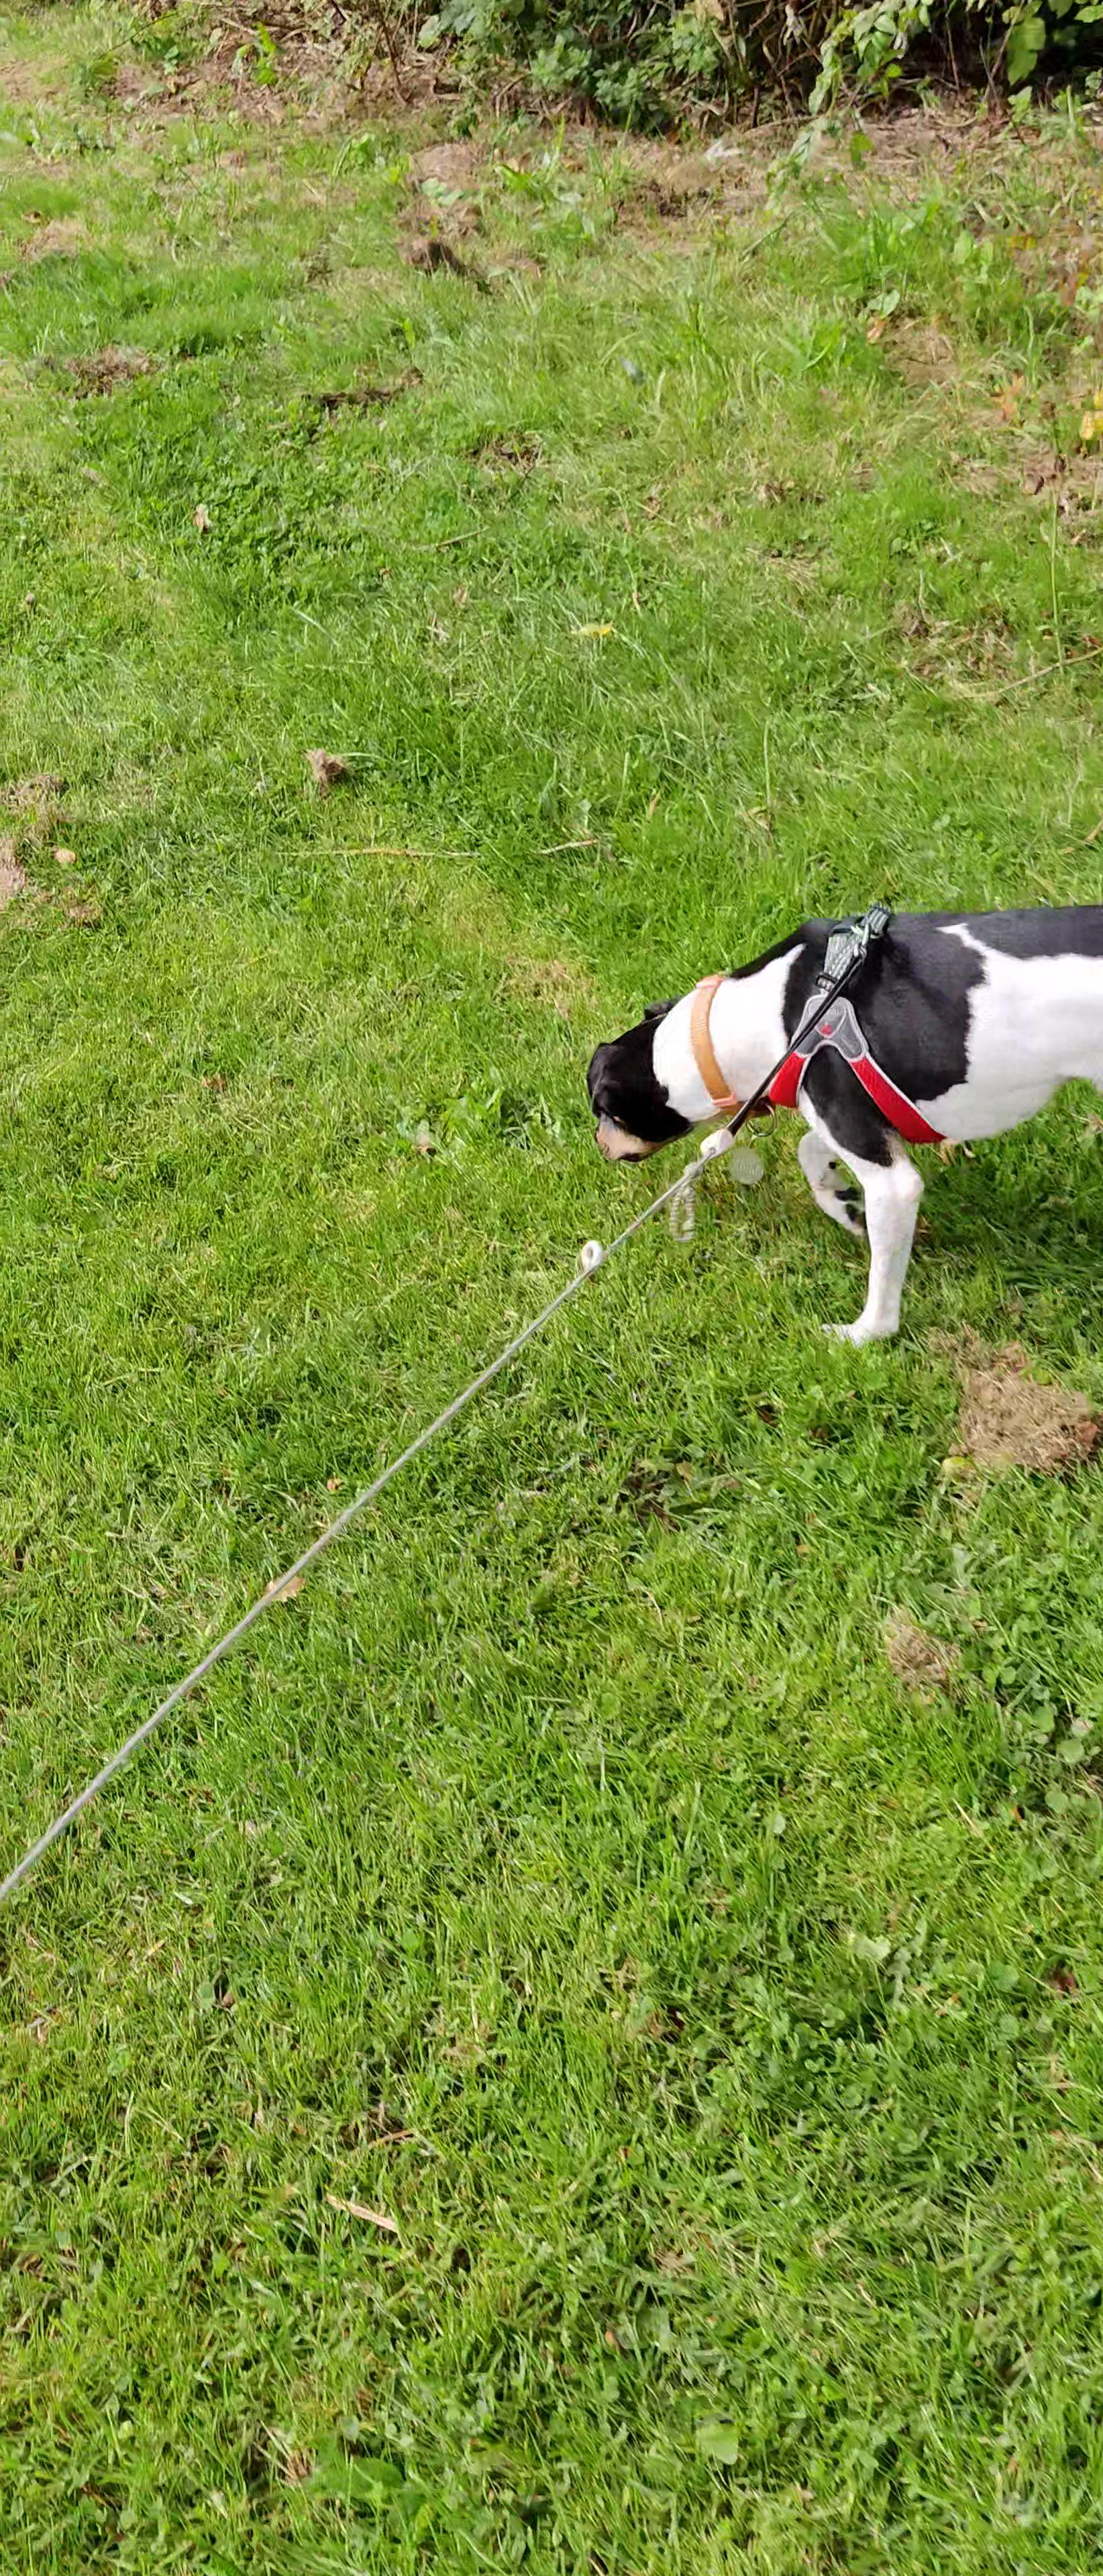Dog: (559, 843, 1103, 1383)
